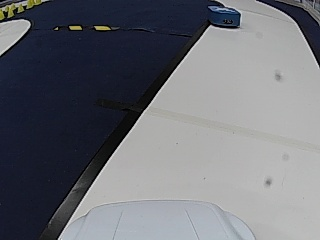prop: (208, 6, 240, 28)
